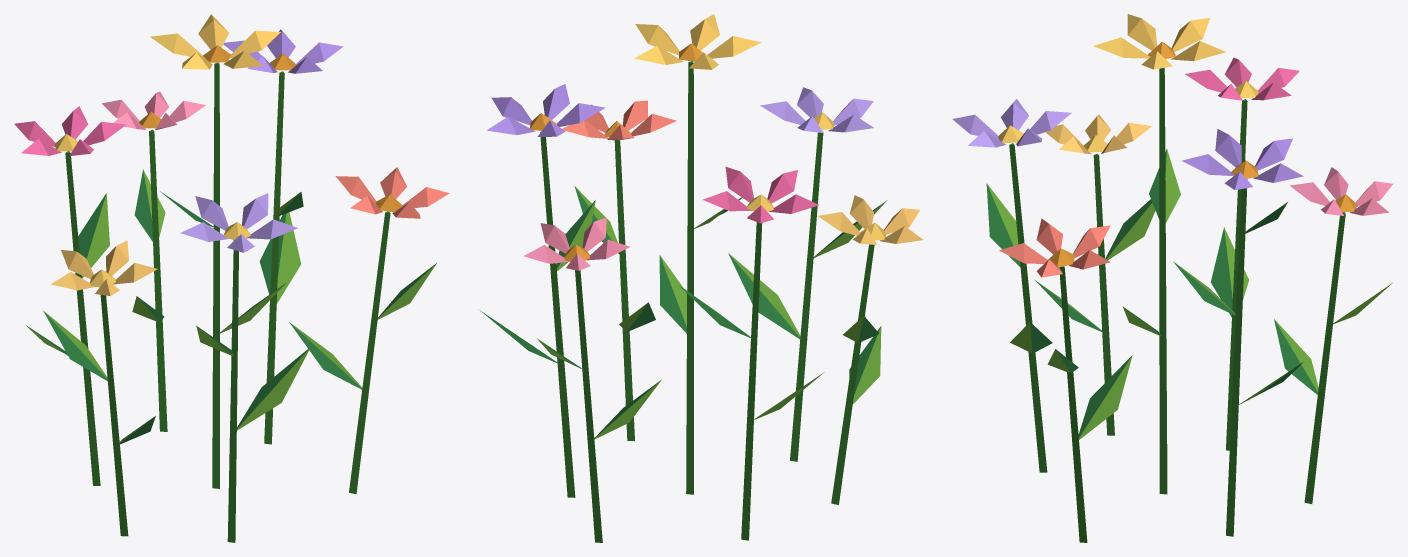
File: flowers.glb
3 renders of one model, left to right at view 1: azimuth 30°, elevation 25°; view 2: azimuth 150°, elevation 25°; view 3: azimuth 270°, elevation 25°, orthographic.
Parts seen in each view (by area): view 1: flowers.foliage, flowers.petals, flowers.pollen; view 2: flowers.foliage, flowers.petals, flowers.pollen; view 3: flowers.foliage, flowers.petals, flowers.pollen.
Boxes of the visible parts, x1,y1,x2,y2 form: flowers.foliage: (26,62,436,542); flowers.petals: (14,14,449,295); flowers.pollen: (55,45,402,287); flowers.foliage: (480,61,887,542); flowers.petals: (486,14,923,270); flowers.pollen: (530,43,885,261); flowers.foliage: (986,67,1392,542); flowers.petals: (952,14,1392,277); flowers.pollen: (998,41,1356,267).
Bounding box in the file's own units: 0.2582 × 0.3 × 0.2611.
